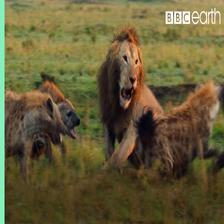Lion: (90, 21, 148, 170)
